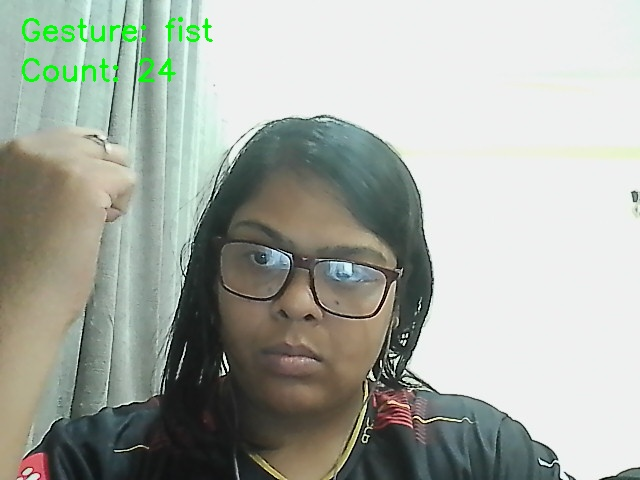fist: (2, 115, 170, 348)
